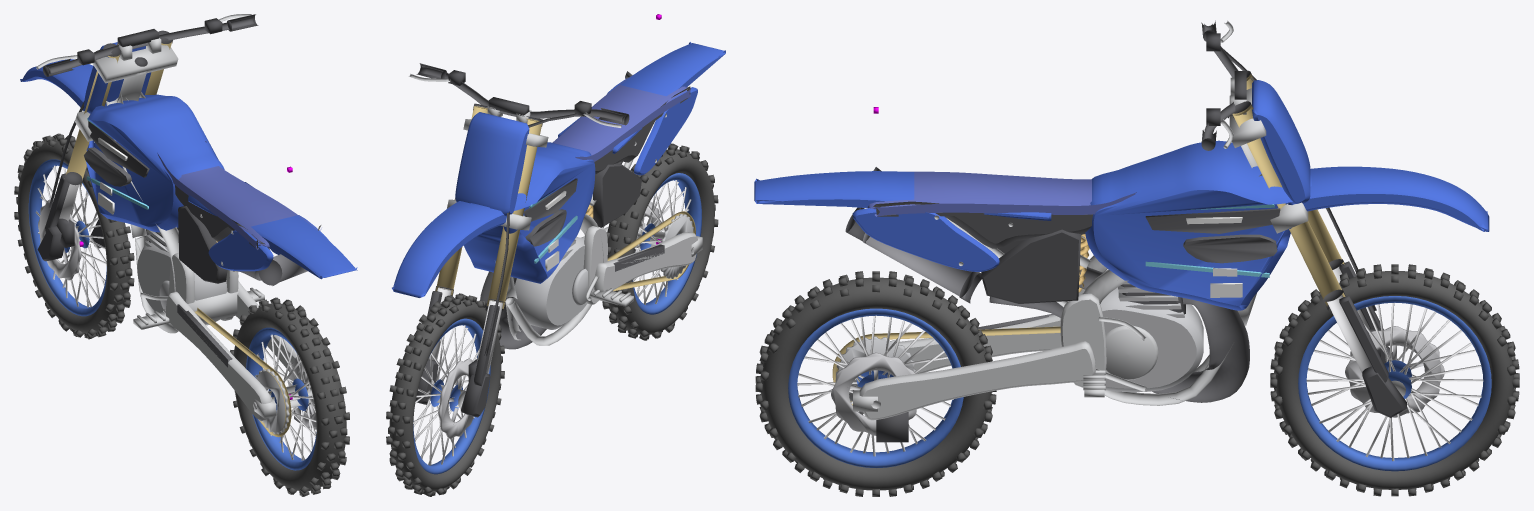
The model's file is MotoYZ125.glb.
3 views of the same model, side by side, from view 1: azimuth 30°, elevation 25°; view 2: azimuth 150°, elevation 25°; view 3: azimuth 270°, elevation 25° (orthographic). The views are drawn at different scales.
Visible parts, largest first — view 1: Corpo_Blu, RuotaDietro_Gomma, RuotaDavanti_Gomma, Forcellone_Alluminio, Corpo_SellaBlu, Corpo_Alluminio, Corpo_Nero, Codino_Blu, Sterzo_Alluminio, Corpo_Motore, RuotaDavanti_BluCerchio, Sterzo_Blu (+16 smaller); view 2: Sterzo_Blu, Corpo_Blu, RuotaDavanti_Gomma, RuotaDietro_Gomma, Corpo_SellaBlu, Corpo_Motore, Corpo_Alluminio, Corpo_Nero, Codino_Blu, Forcellone_Alluminio, Sterzo_Oro, Forcella_Nero (+15 smaller); view 3: Corpo_Blu, RuotaDietro_Gomma, RuotaDavanti_Gomma, Forcellone_Alluminio, Sterzo_Blu, Corpo_Alluminio, Corpo_Nero, Corpo_NeroOpaco, Corpo_SellaBlu, Corpo_Motore, RuotaDavanti_BluCerchio, RuotaDietro_BluCerchio (+16 smaller).
Boxes of the visible parts, x1=… form: Corpo_Blu: x1=86, y1=94, x2=328, y2=271; RuotaDietro_Gomma: x1=230, y1=297, x2=349, y2=496; RuotaDavanti_Gomma: x1=14, y1=133, x2=134, y2=339; Forcellone_Alluminio: x1=165, y1=281, x2=314, y2=421; Corpo_SellaBlu: x1=157, y1=141, x2=321, y2=249; Corpo_Alluminio: x1=106, y1=71, x2=264, y2=333; Corpo_Nero: x1=88, y1=121, x2=282, y2=285; Codino_Blu: x1=251, y1=215, x2=357, y2=279; Sterzo_Alluminio: x1=36, y1=14, x2=251, y2=141; Corpo_Motore: x1=137, y1=229, x2=227, y2=324; RuotaDavanti_BluCerchio: x1=28, y1=159, x2=106, y2=316; Sterzo_Blu: x1=20, y1=42, x2=151, y2=113; Sterzo_Blu: x1=392, y1=112, x2=529, y2=297; Corpo_Blu: x1=464, y1=78, x2=697, y2=283; RuotaDavanti_Gomma: x1=386, y1=293, x2=504, y2=496; RuotaDietro_Gomma: x1=602, y1=143, x2=718, y2=340; Corpo_SellaBlu: x1=552, y1=75, x2=690, y2=161; Corpo_Motore: x1=513, y1=237, x2=587, y2=329; Corpo_Alluminio: x1=495, y1=113, x2=666, y2=345; Corpo_Nero: x1=524, y1=163, x2=641, y2=227; Codino_Blu: x1=620, y1=42, x2=725, y2=96; Forcellone_Alluminio: x1=581, y1=223, x2=702, y2=292; Sterzo_Oro: x1=435, y1=106, x2=542, y2=308; Forcella_Nero: x1=415, y1=291, x2=499, y2=417; Corpo_Blu: x1=852, y1=140, x2=1311, y2=310; RuotaDietro_Gomma: x1=755, y1=271, x2=996, y2=496; RuotaDavanti_Gomma: x1=1270, y1=264, x2=1519, y2=496; Forcellone_Alluminio: x1=853, y1=314, x2=1095, y2=420; Sterzo_Blu: x1=1252, y1=80, x2=1489, y2=231; Corpo_Alluminio: x1=934, y1=143, x2=1262, y2=405; Corpo_Nero: x1=845, y1=207, x2=1280, y2=303; Corpo_NeroOpaco: x1=989, y1=234, x2=1277, y2=402; Corpo_SellaBlu: x1=867, y1=171, x2=1136, y2=216; Corpo_Motore: x1=1081, y1=280, x2=1203, y2=392; RuotaDavanti_BluCerchio: x1=1298, y1=296, x2=1491, y2=471; RuotaDietro_BluCerchio: x1=788, y1=308, x2=963, y2=467.
Bounding box in the file's own units: 2.97 × 4.6 × 7.6.
